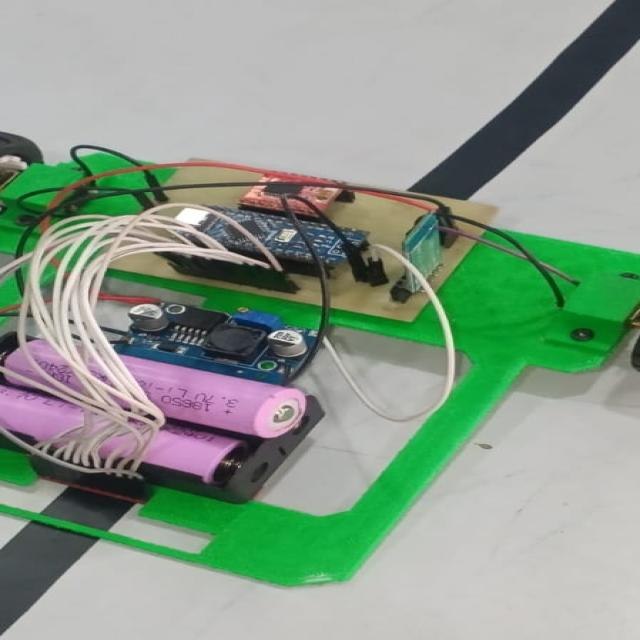vehicle: (0, 139, 640, 539)
